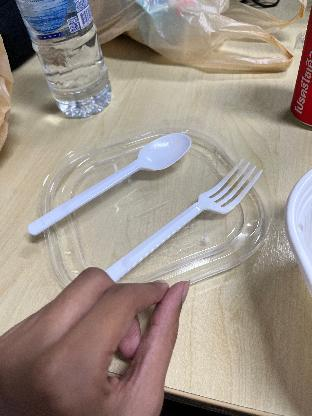Others: (104, 154, 266, 292), (30, 131, 194, 242)
Plastic Bottle: (14, 0, 112, 118)
